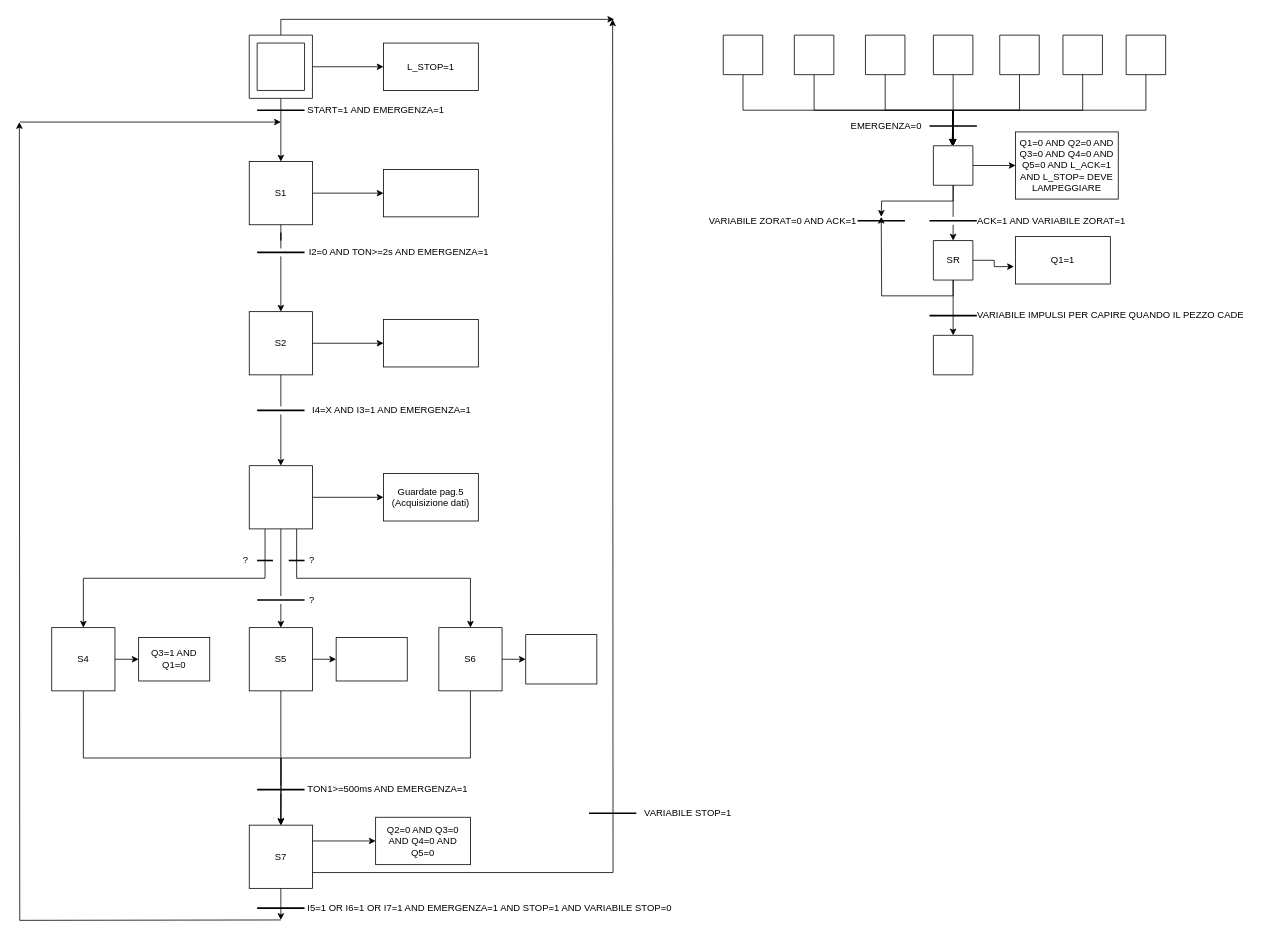
The diagram is 1266 pixels wide and 941 high, and some of its shapes have lost their labels. The box of each missing label's shape, as (x1, y1, x2, y2) in pixels:
L_START=1: (383, 169, 478, 217)
Q1=0 AND Q4=1: (335, 637, 407, 681)
Q1=1 AND L_START=1 AND Q2=1: (383, 319, 478, 367)
Q5=1 AND Q1=0: (525, 634, 597, 684)
S0: (248, 34, 312, 98)
S3: (248, 465, 312, 529)
SE: (933, 145, 973, 185)
